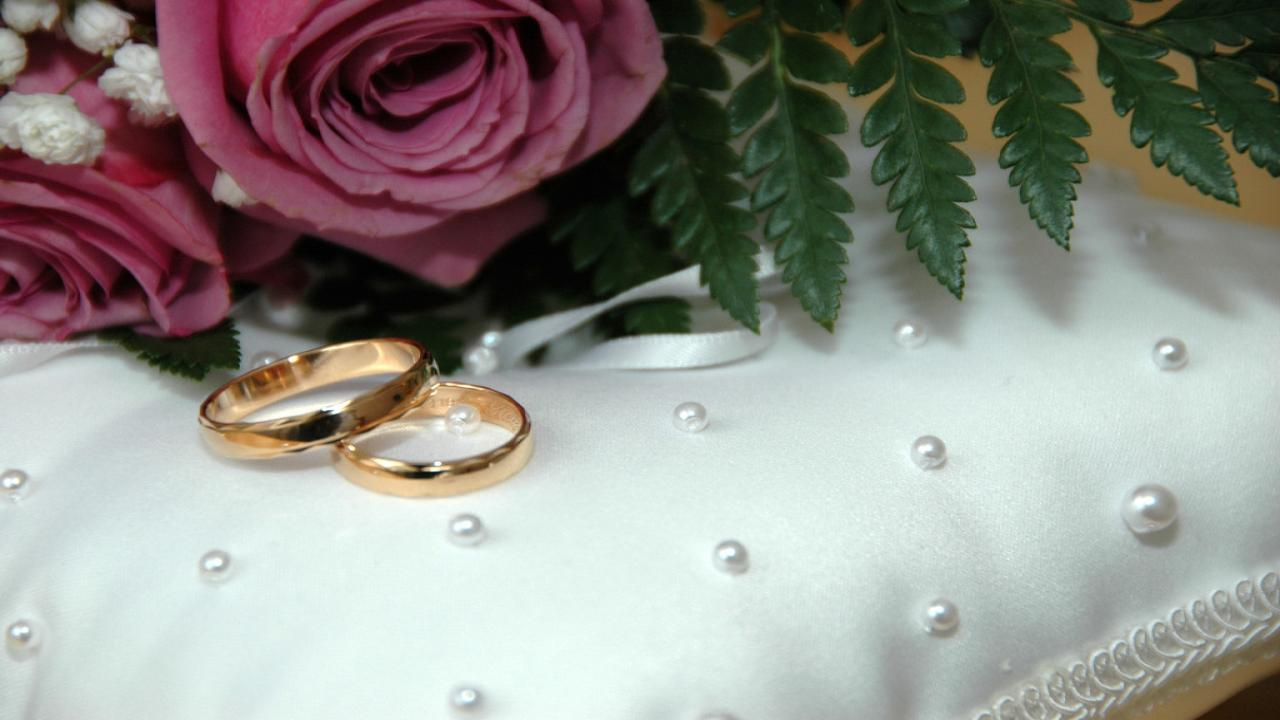ring: (198, 340, 428, 462), (334, 378, 540, 496)
